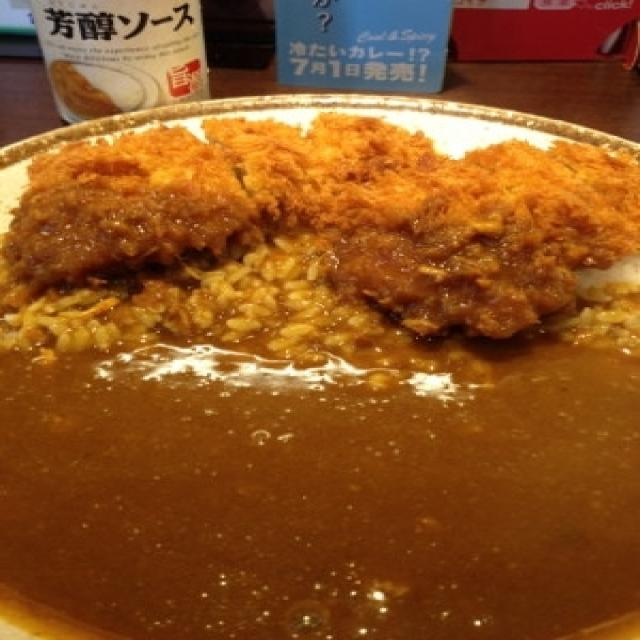牛肉菜式: (6, 64, 634, 626)
